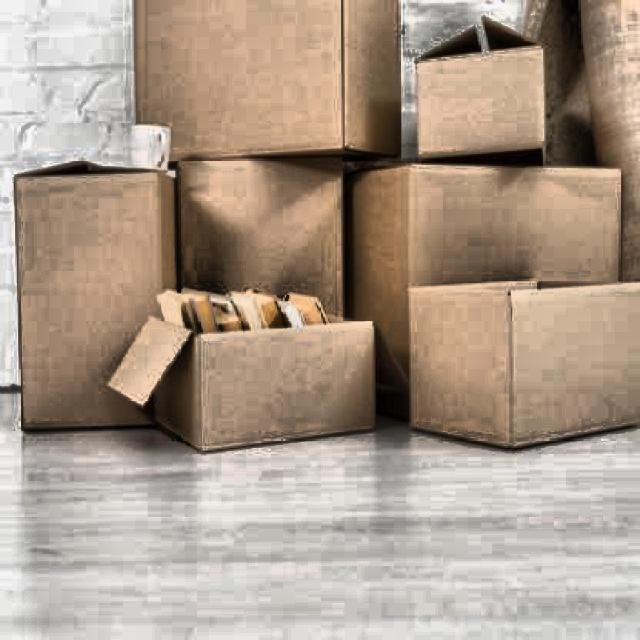Cardbox: (328, 135, 640, 414), (114, 254, 390, 485), (14, 142, 202, 456), (150, 129, 382, 362), (120, 0, 402, 180), (404, 268, 640, 478), (414, 14, 545, 158), (160, 292, 336, 334)
